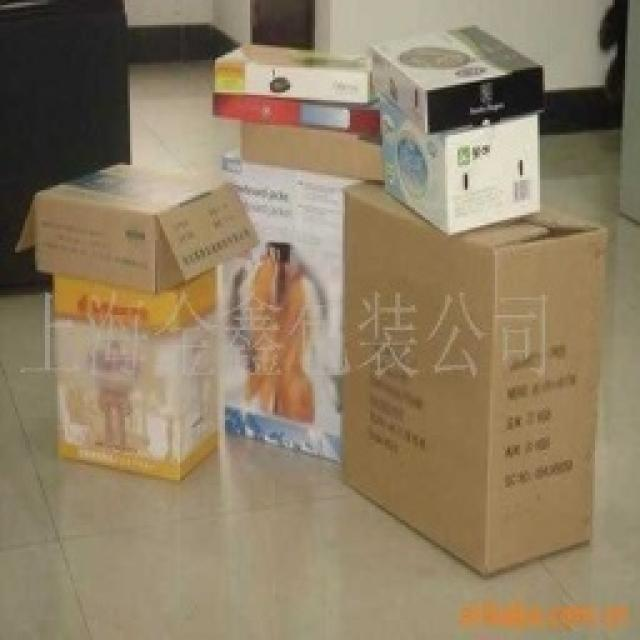box: (341, 179, 631, 606), (223, 134, 369, 490), (35, 264, 212, 492), (375, 31, 569, 204), (30, 165, 242, 286), (227, 118, 401, 180), (218, 37, 374, 99), (205, 84, 404, 128)
